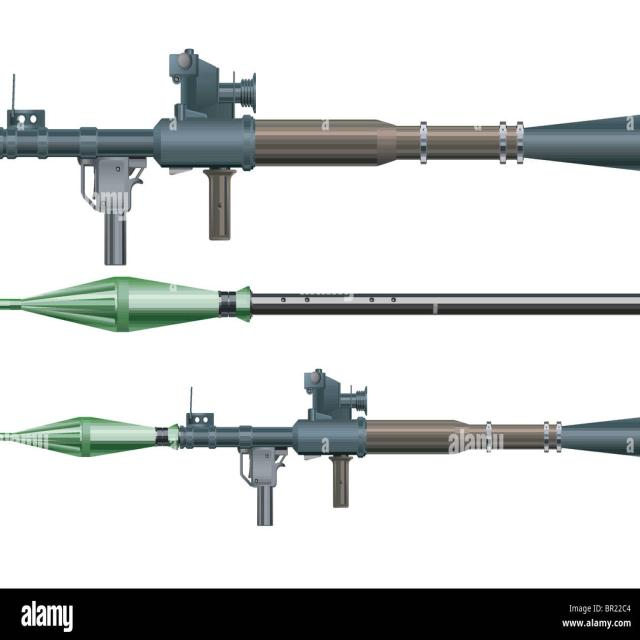Gun: (0, 47, 640, 269), (0, 351, 640, 548)
